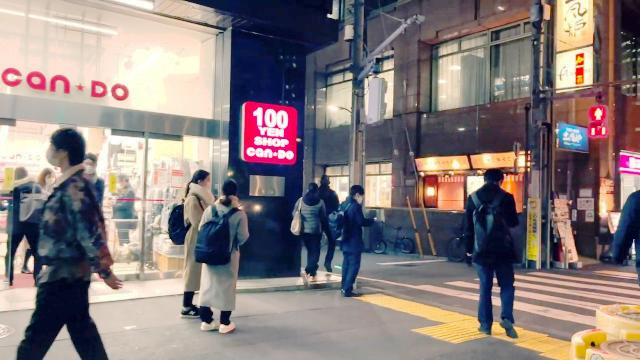berdiri: (162, 169, 250, 340), (468, 148, 524, 340), (338, 187, 372, 304)
berjalan: (12, 116, 116, 360)
